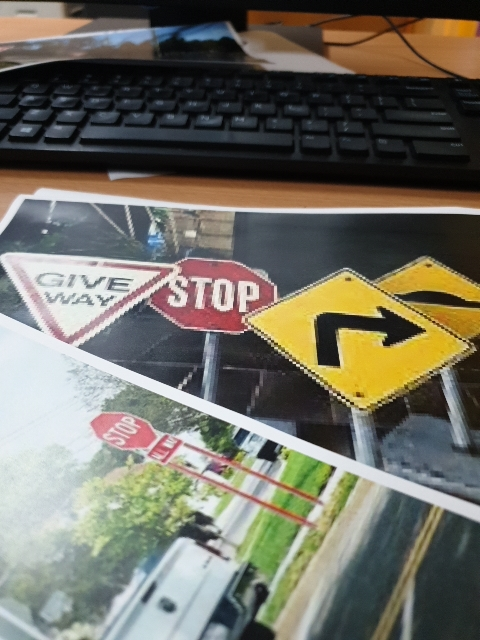giveway: (8, 234, 171, 347)
right: (240, 269, 454, 395)
stop: (156, 252, 270, 339)
